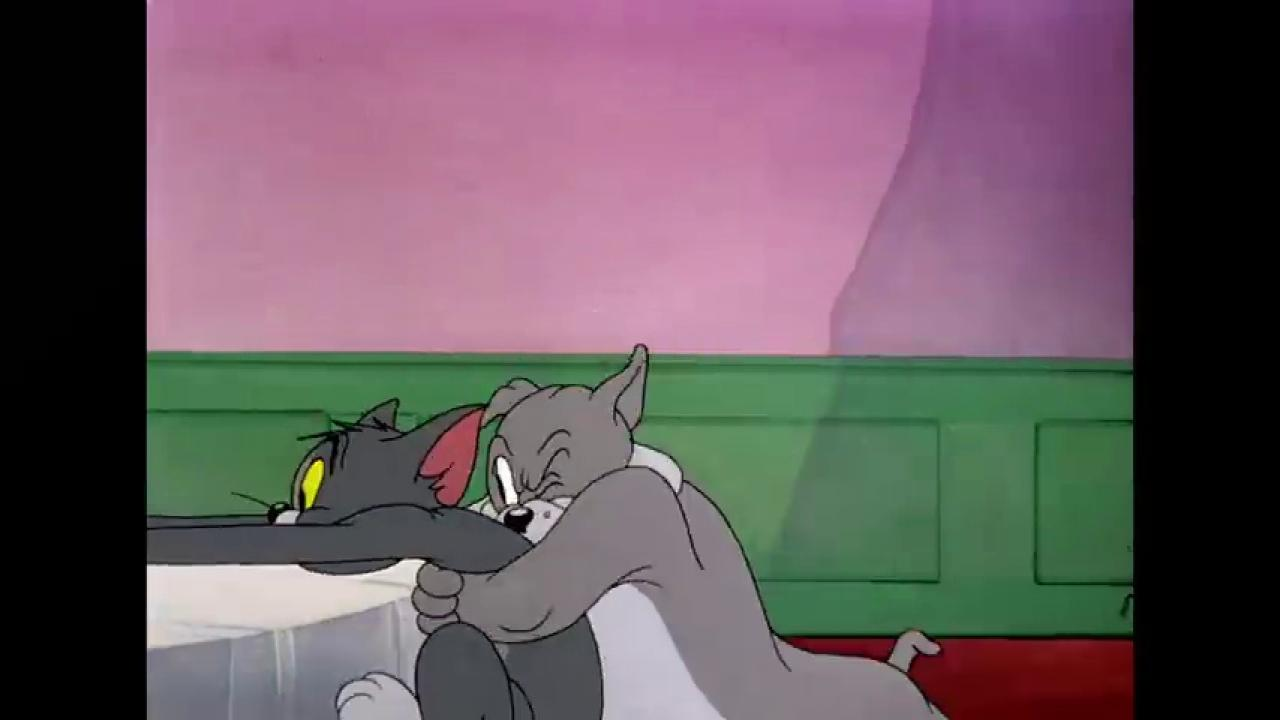Tom: (146, 397, 606, 720)
